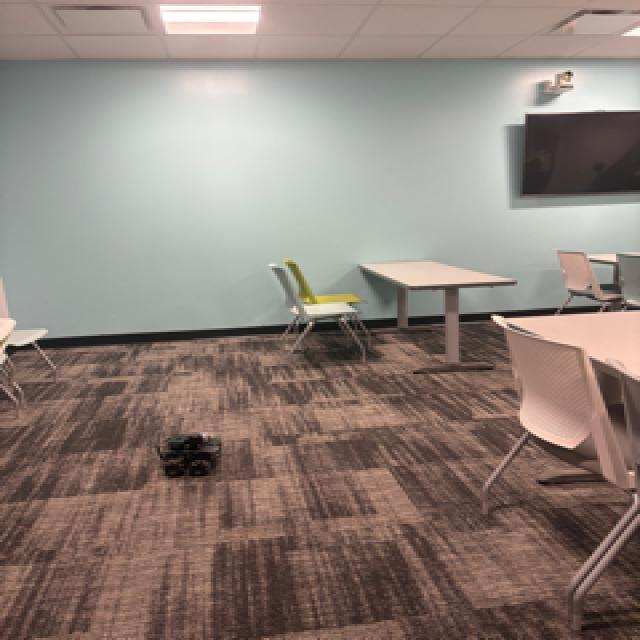ArduinoCar3: (154, 423, 225, 478)
